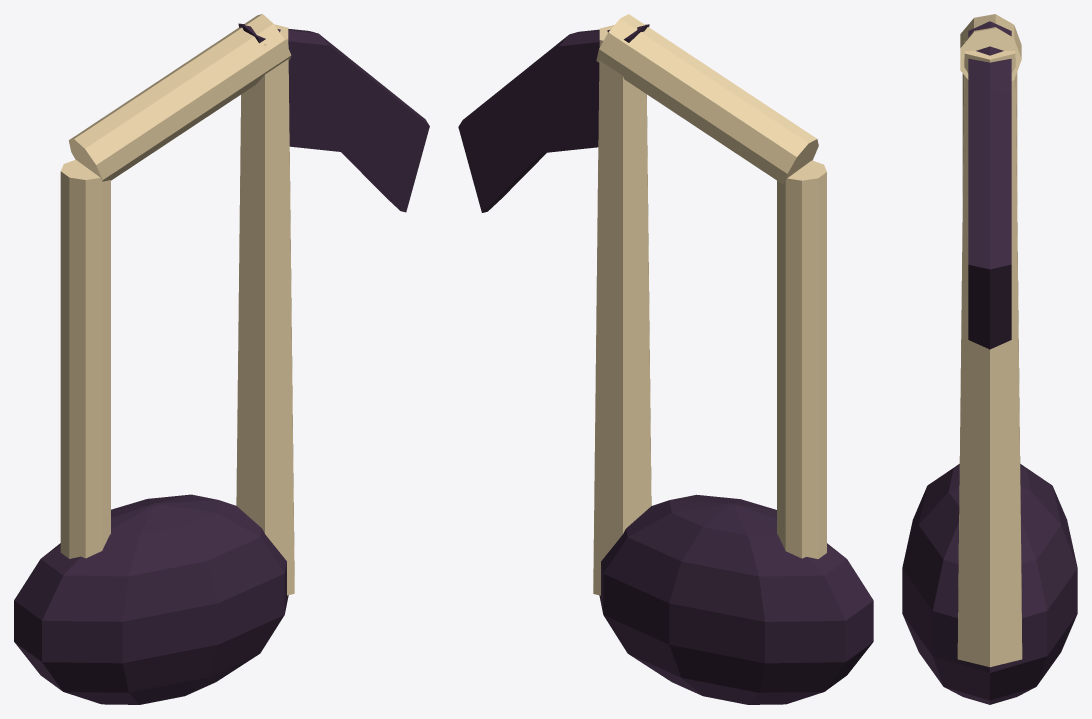
Rendered from FXM_S14_MarchingNote.fbx.
3 renders of one model, left to right at view 1: azimuth 30°, elevation 25°; view 2: azimuth 150°, elevation 25°; view 3: azimuth 270°, elevation 25°, orthographic. The views are drawn at different scales.
Visible parts, largest first — view 1: FXM_S14_MarchingNote_LOD0; view 2: FXM_S14_MarchingNote_LOD0; view 3: FXM_S14_MarchingNote_LOD0.
Boxes of the visible parts, x1,y1,x2,y2 form: FXM_S14_MarchingNote_LOD0: (14, 14, 429, 704); FXM_S14_MarchingNote_LOD0: (458, 14, 873, 704); FXM_S14_MarchingNote_LOD0: (902, 14, 1077, 704).
Size of what is drawn, in the model's own units: 0.6373 by 1 by 0.223.
Materials: 1 (1 with a texture image).
